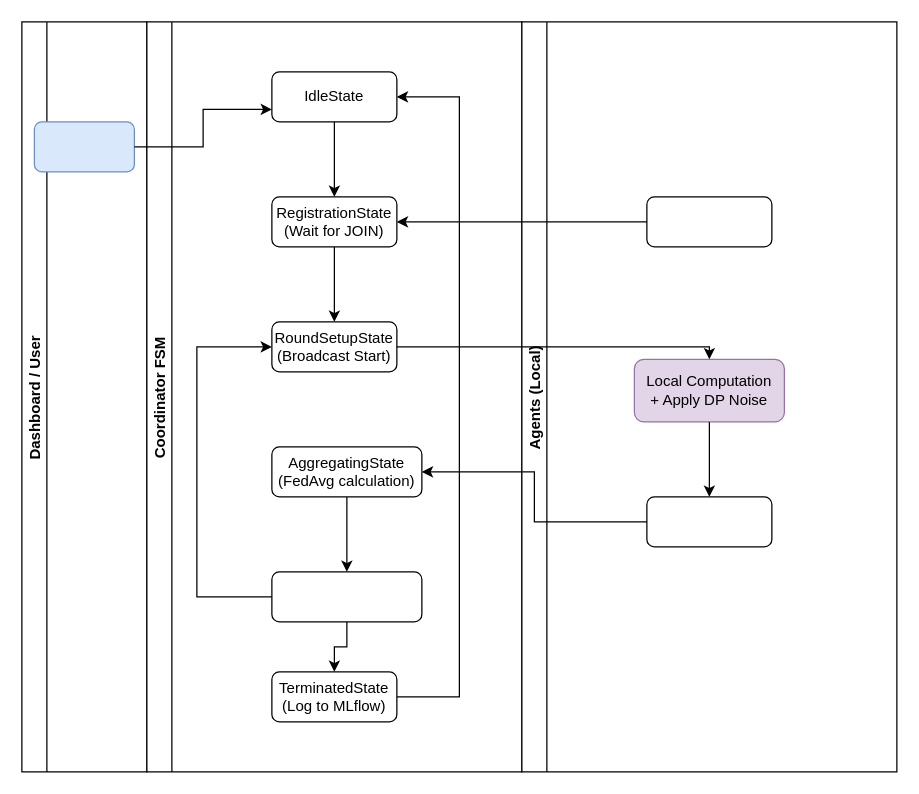
This 919x794 diagram has some shape labels left out. The shapes that lost their labels are listed below. From the top down, each one's centre as x and y in pixels, then its label:
At [83,146]: "Click Start".
At [709,221]: "Send JOIN".
At [709,521]: "Send Updates".
At [346,596]: "BroadcastingState (Send Global Model)".
